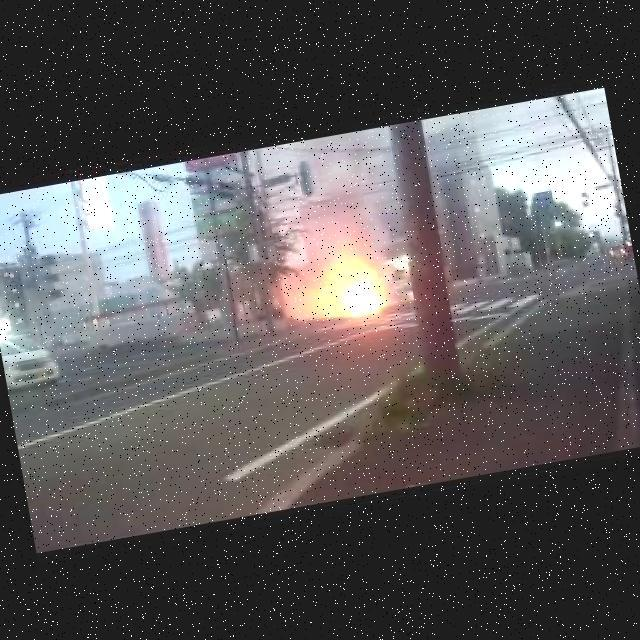Fire: (315, 255, 390, 324)
